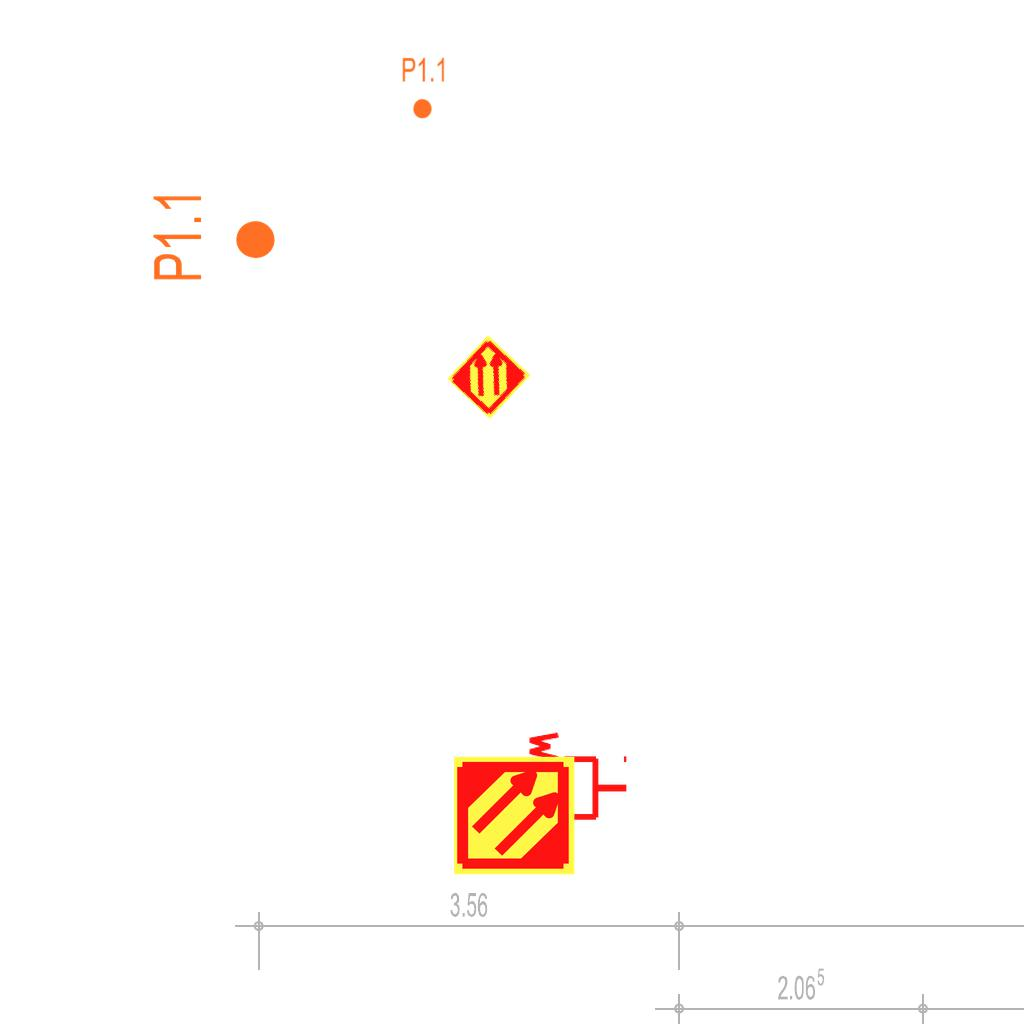ASR_Ansaugrauchmelder: (452, 753, 577, 878), (445, 333, 533, 421)
Downlight_LED_Einbauleuchten_Flur: (150, 190, 278, 283), (401, 56, 447, 120)
WLAN: (526, 727, 631, 831)
